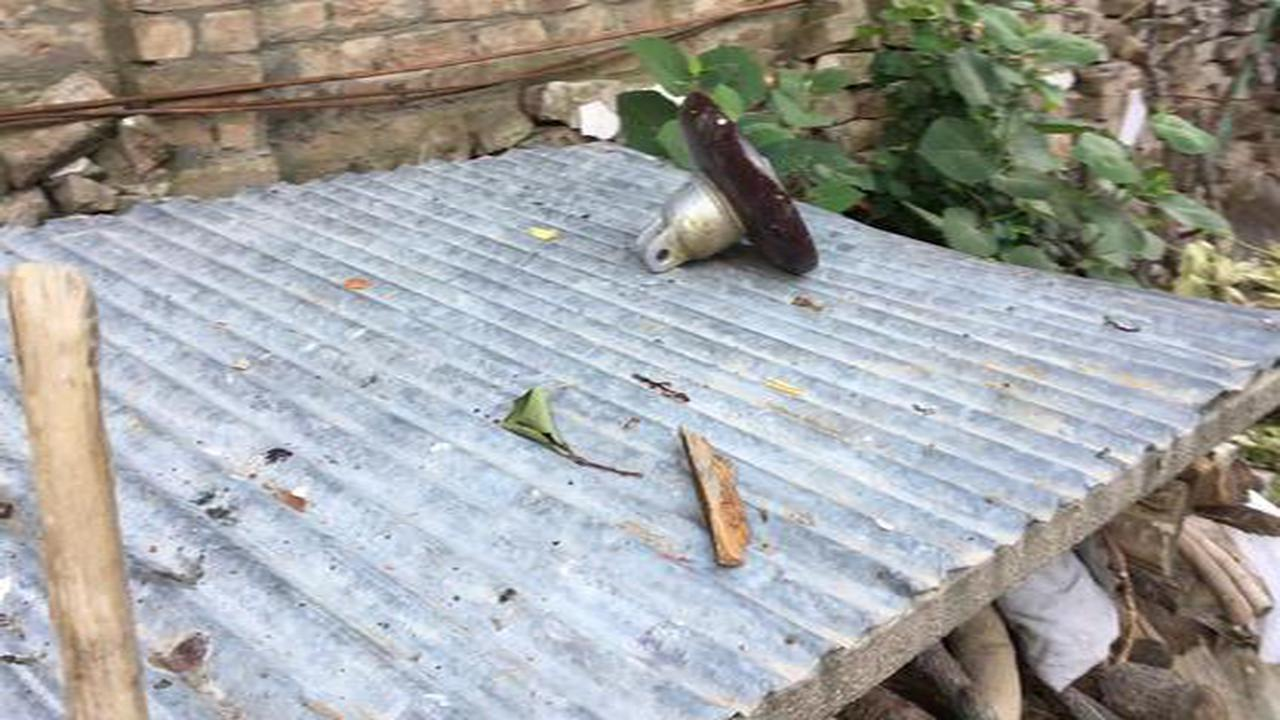insulator_disc: (630, 93, 824, 286)
